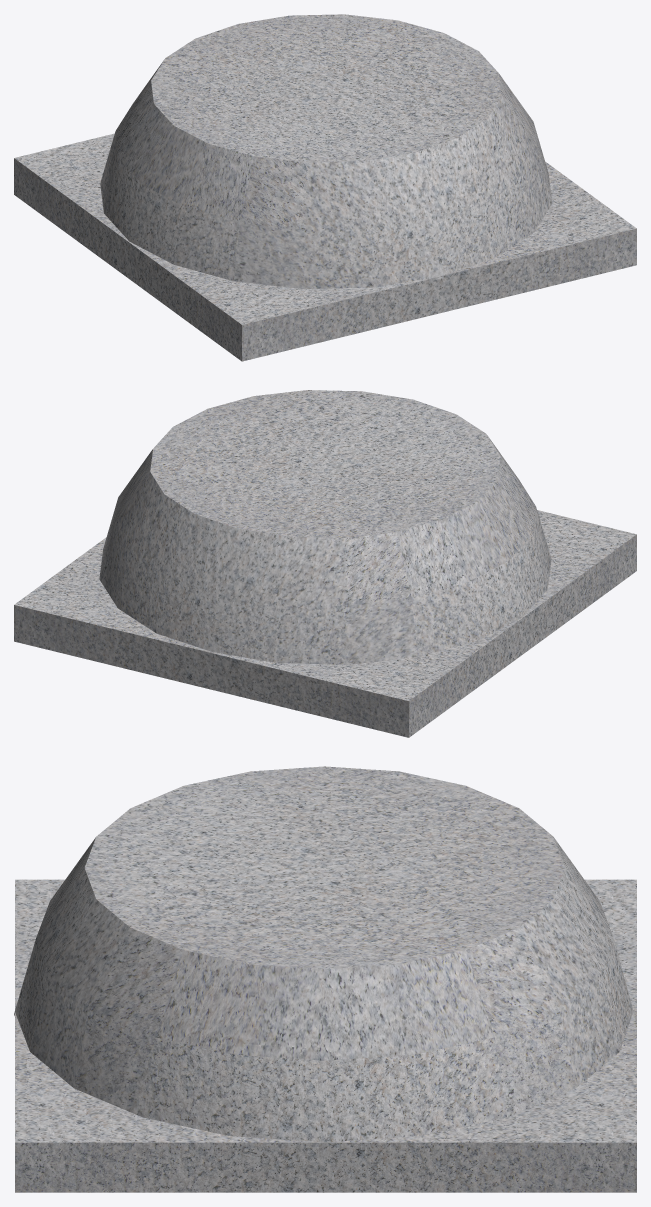
3 views of the same model, one above another, from view 1: azimuth 30°, elevation 25°; view 2: azimuth 150°, elevation 25°; view 3: azimuth 270°, elevation 25° (orthographic). The views are drawn at different scales.
Parts seen in each view (by area): view 1: SM_S_Circle_1; view 2: SM_S_Circle_1; view 3: SM_S_Circle_1.
Boxes of the visible parts, <box> form: SM_S_Circle_1: <box>14,14,636,361</box>; SM_S_Circle_1: <box>14,390,636,737</box>; SM_S_Circle_1: <box>14,766,636,1192</box>.
Size of the model in its own units: 107 by 107 by 36.52.
Materials: 1 (1 with a texture image).
